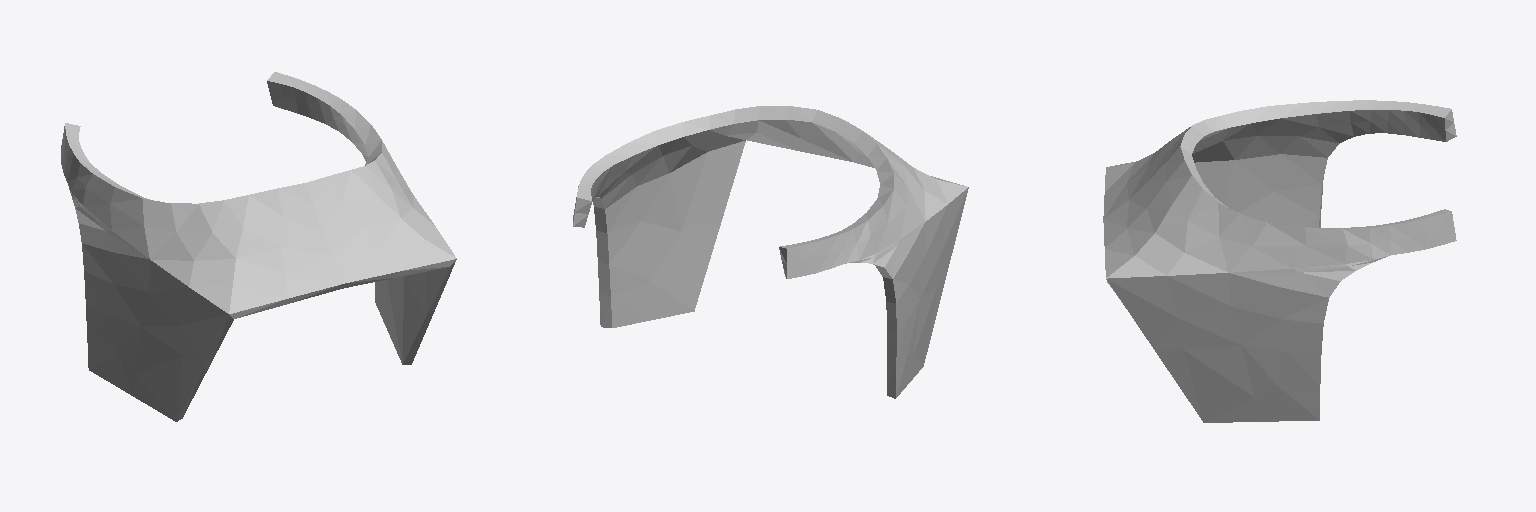
Rendered from Shade.obj.
3 views of the same model, side by side, from view 1: azimuth 30°, elevation 25°; view 2: azimuth 150°, elevation 25°; view 3: azimuth 270°, elevation 25° (orthographic).
Parts seen in each view (by area): view 1: shade; view 2: shade; view 3: shade.
Part boxes in pixels (x1,y1,x2,y2): shade: (61, 72, 456, 421); shade: (573, 106, 968, 398); shade: (1103, 100, 1456, 422).
Size of the model in its own units: 8.42 by 5.88 by 8.58.